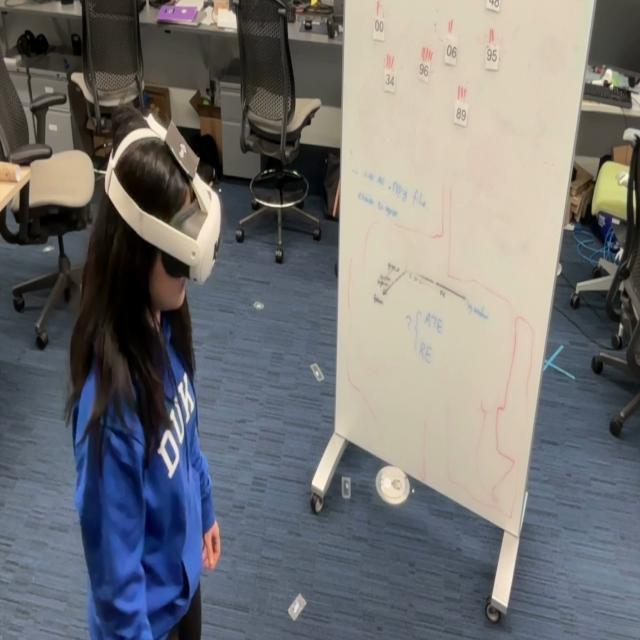Headset: (103, 107, 222, 286)
UnityLogo: (161, 121, 205, 183)
